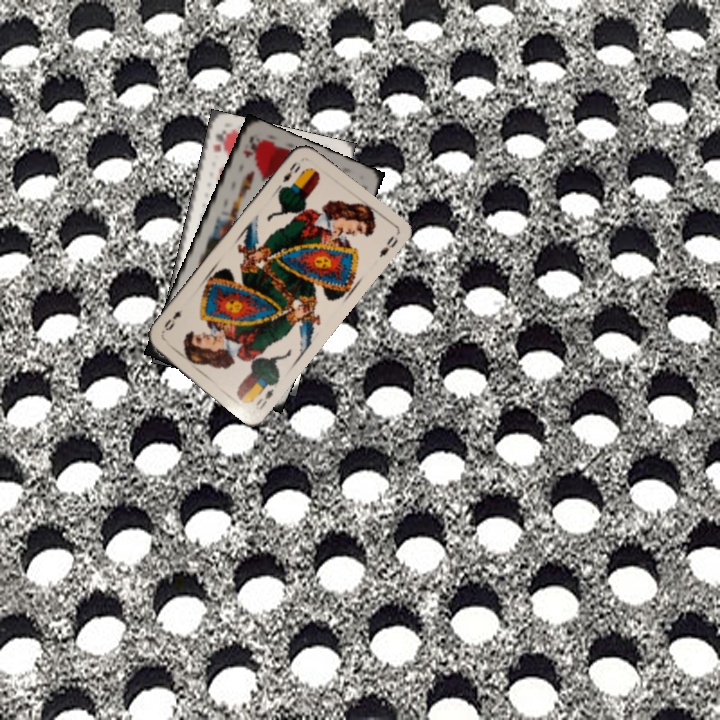EO: (251, 384, 276, 413), (278, 158, 303, 185)
HK: (239, 132, 261, 161), (209, 127, 230, 154)
